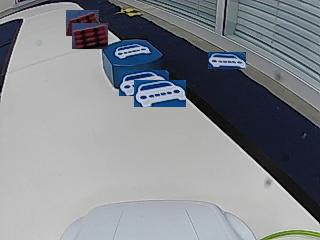safety: (114, 44, 150, 59)
